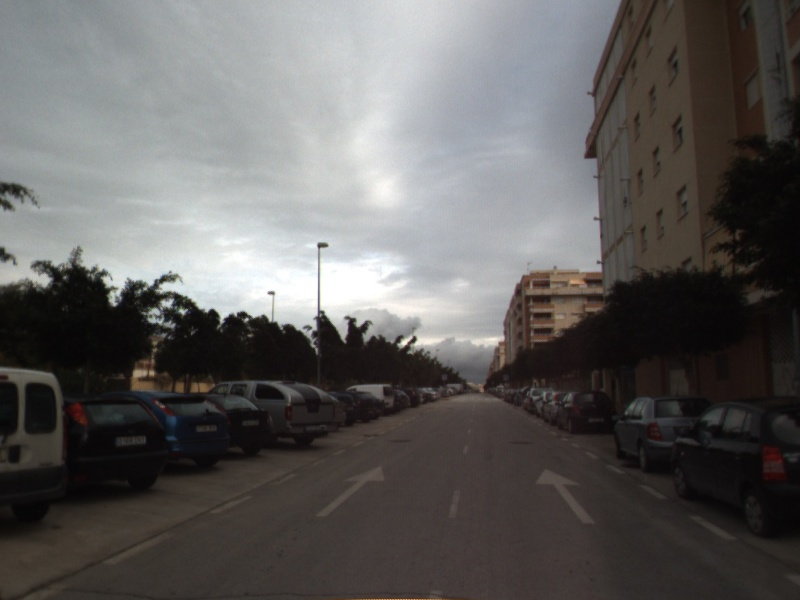STRAIGHT: (314, 464, 386, 519), (533, 466, 598, 526)
